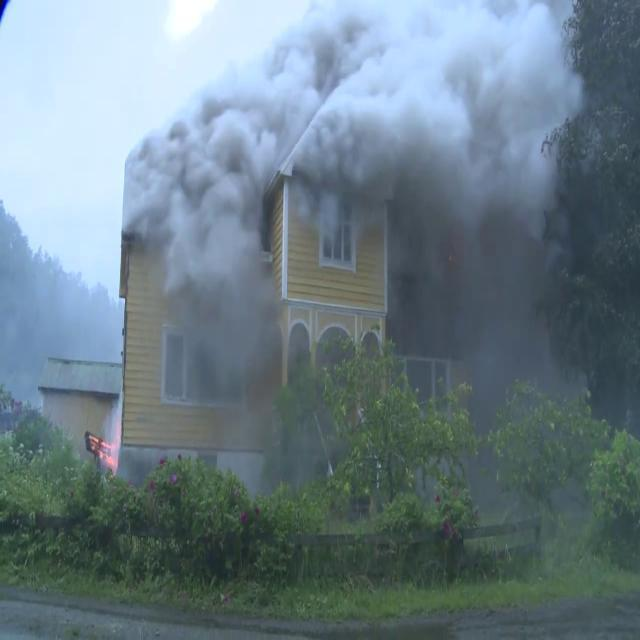Smoke: (121, 0, 595, 252)
